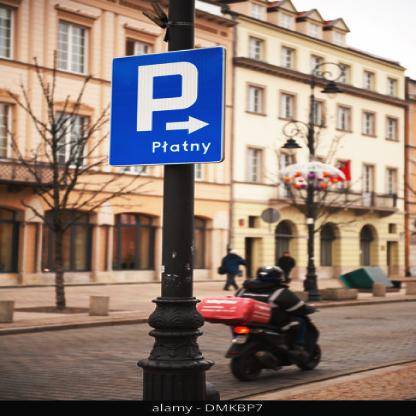Parking: (109, 58, 227, 166)
